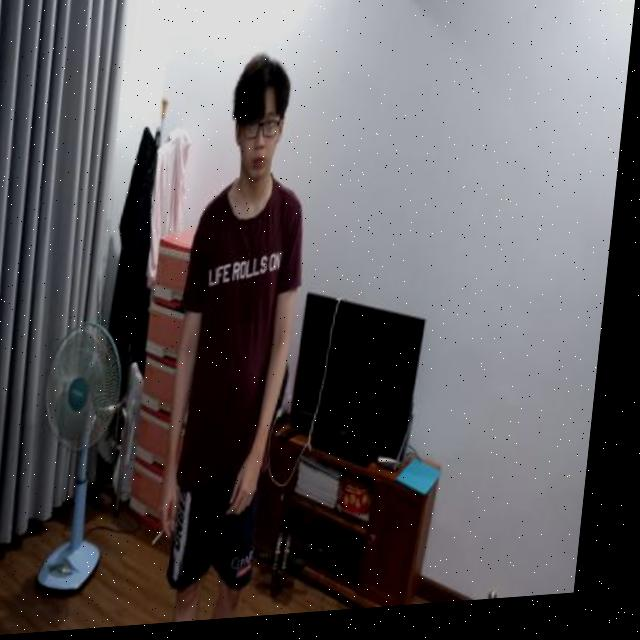cigarette: (163, 533, 176, 552)
